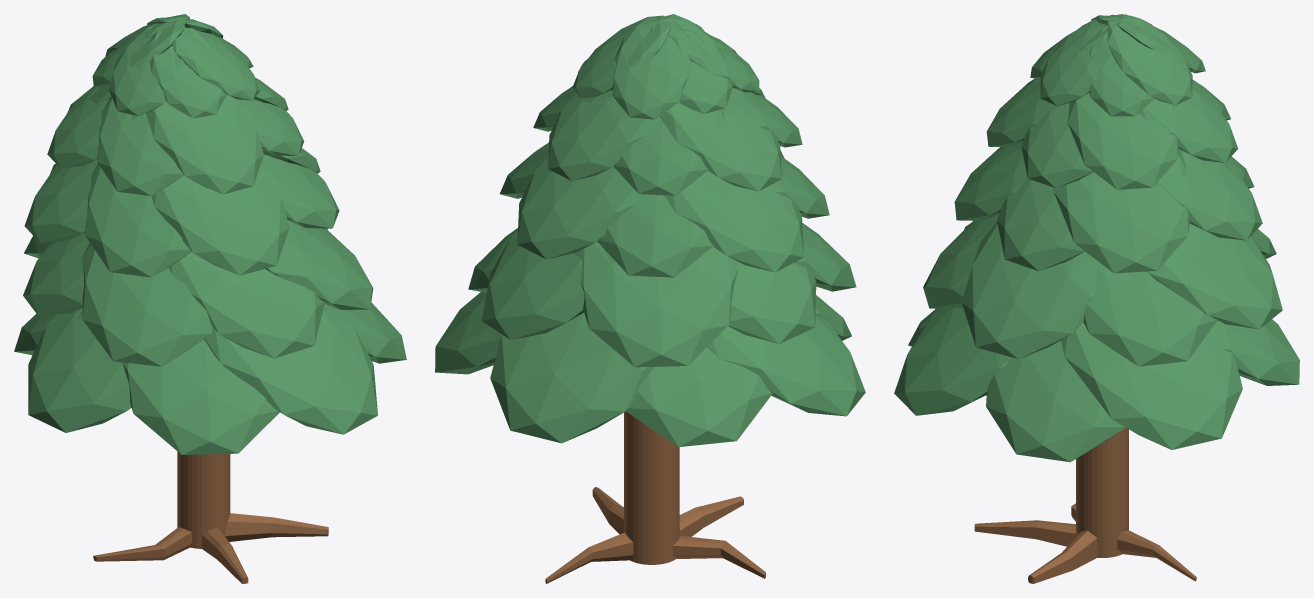
File: long-leafy-tree.fbx
3 views of the same model, side by side, from view 1: azimuth 30°, elevation 25°; view 2: azimuth 150°, elevation 25°; view 3: azimuth 270°, elevation 25° (orthographic). The views are drawn at different scales.
Visible parts, largest first — view 1: Cylinder; view 2: Cylinder; view 3: Cylinder.
Boxes of the visible parts, x1=… form: Cylinder: x1=14, y1=14, x2=406, y2=583; Cylinder: x1=435, y1=14, x2=865, y2=583; Cylinder: x1=894, y1=14, x2=1299, y2=583.
Size of the model in its own units: 448 by 630 by 440.
